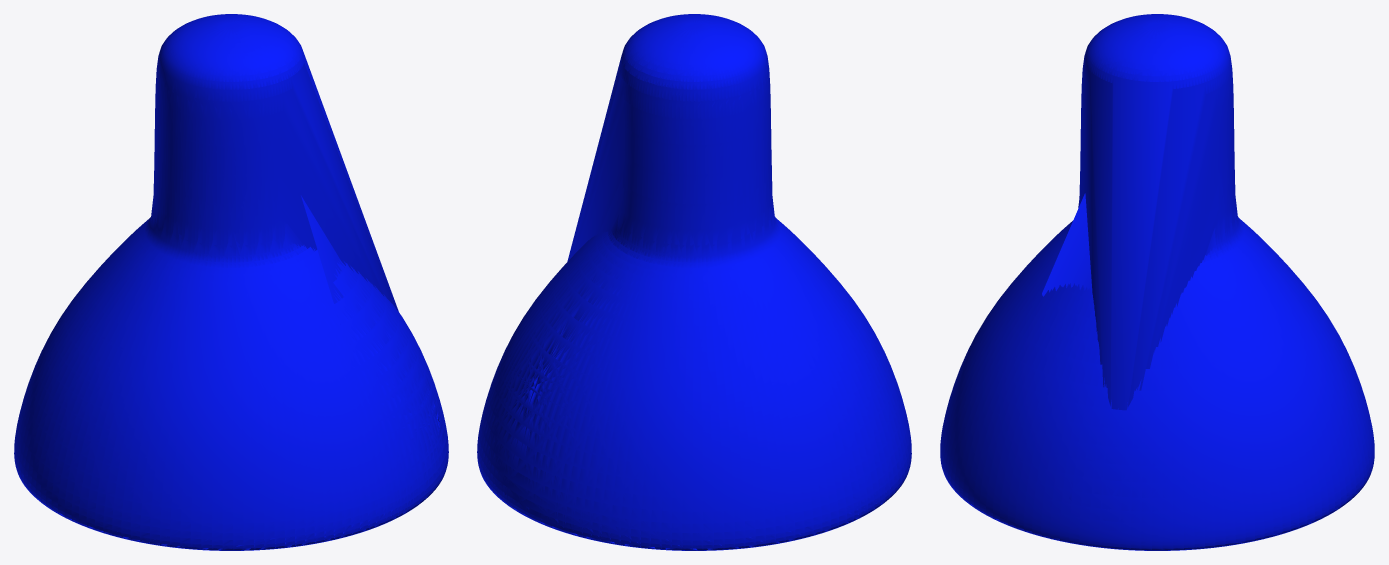
The model's file is Lamp.fbx.
3 views of the same model, side by side, from view 1: azimuth 30°, elevation 25°; view 2: azimuth 150°, elevation 25°; view 3: azimuth 270°, elevation 25° (orthographic).
Parts seen in each view (by area): view 1: Mesh_008; view 2: Mesh_008; view 3: Mesh_008.
Boxes of the visible parts, x1,y1,x2,y2 form: Mesh_008: [14, 14, 448, 550]; Mesh_008: [477, 14, 911, 550]; Mesh_008: [940, 14, 1374, 550].
Size of the model in its own units: 1.24 by 1.36 by 1.24.
